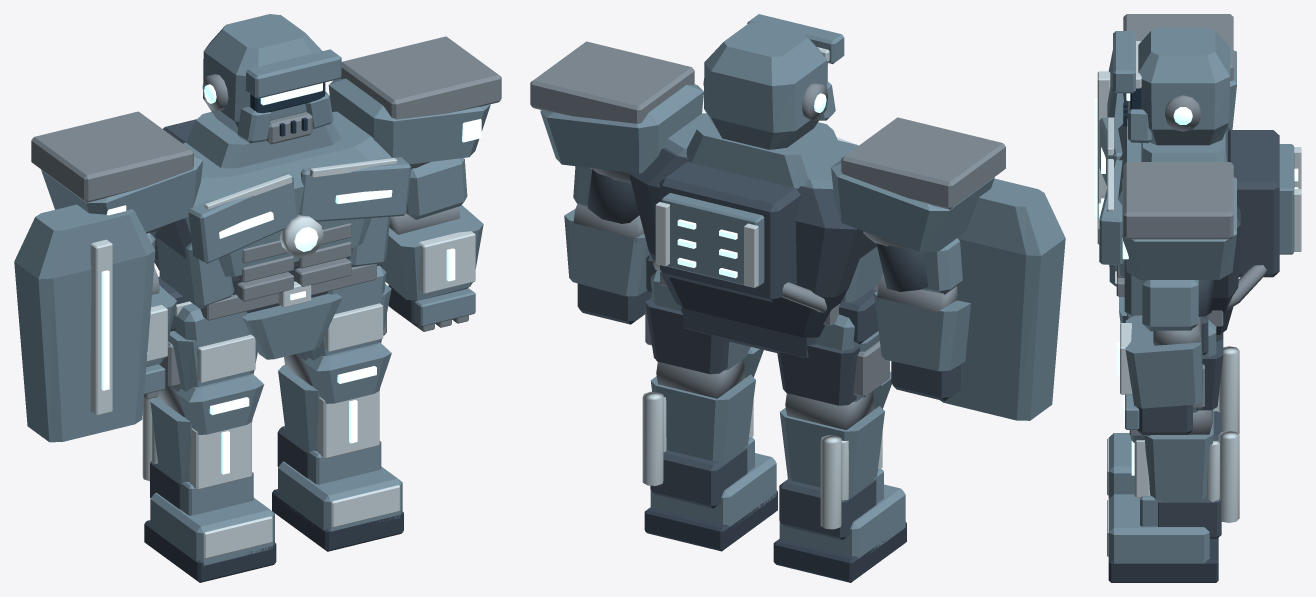
File: character_bulwark.glb
3 views of the same model, side by side, from view 1: azimuth 30°, elevation 25°; view 2: azimuth 150°, elevation 25°; view 3: azimuth 270°, elevation 25° (orthographic). The views are drawn at different scales.
Parts seen in each view (by area): view 1: forearm_tower_shield_120, shoulder_siege_slab_123, shoulder_siege_slab_125, thorax_carapace_2, helmet_94, shoulder_pauldron_78, pectoral_plate_13, pectoral_plate_3, shoulder_pauldron_63, boot_toe_31, codpiece_24, boot_toe_47 (+48 smaller); view 2: forearm_tower_shield_120, torso_1, helmet_94, shoulder_siege_slab_123, shoulder_siege_slab_125, reactor_pack_108, shoulder_pauldron_78, shoulder_pauldron_63, shin_armor_51, neck_guard_collar_93, reactor_armored_cover_109, forearm_bracer_69 (+31 smaller); view 3: helmet_94, shoulder_siege_slab_125, reactor_pack_108, forearm_bracer_84, boot_toe_47, shoulder_pauldron_78, shin_armor_51, upper_arm_plate_82, boot_sole_46, shoulder_siege_slab_123, boot_ankle_49, shin_hydraulic_rod_126 (+33 smaller).
Part boxes in pixels (x1=…): forearm_tower_shield_120: x1=14, y1=204, x2=155, y2=442; shoulder_siege_slab_123: x1=31, y1=111, x2=193, y2=202; shoulder_siege_slab_125: x1=340, y1=36, x2=501, y2=119; thorax_carapace_2: x1=183, y1=111, x2=391, y2=276; helmet_94: x1=203, y1=14, x2=322, y2=133; shoulder_pauldron_78: x1=328, y1=78, x2=490, y2=164; pectoral_plate_13: x1=299, y1=157, x2=411, y2=221; pectoral_plate_3: x1=188, y1=173, x2=297, y2=263; shoulder_pauldron_63: x1=41, y1=153, x2=203, y2=232; boot_toe_31: x1=150, y1=492, x2=274, y2=565; codpiece_24: x1=242, y1=293, x2=342, y2=359; boot_toe_47: x1=278, y1=461, x2=402, y2=532; forearm_tower_shield_120: x1=940, y1=178, x2=1065, y2=420; torso_1: x1=629, y1=147, x2=876, y2=337; helmet_94: x1=704, y1=22, x2=827, y2=149; shoulder_siege_slab_123: x1=841, y1=117, x2=1005, y2=209; shoulder_siege_slab_125: x1=530, y1=41, x2=694, y2=123; reactor_pack_108: x1=660, y1=162, x2=800, y2=302; shoulder_pauldron_78: x1=540, y1=84, x2=703, y2=173; shoulder_pauldron_63: x1=831, y1=160, x2=994, y2=251; shin_armor_51: x1=650, y1=374, x2=755, y2=463; neck_guard_collar_93: x1=686, y1=119, x2=843, y2=188; reactor_armored_cover_109: x1=662, y1=193, x2=764, y2=288; forearm_bracer_69: x1=874, y1=291, x2=970, y2=371; helmet_94: x1=1138, y1=27, x2=1230, y2=145; shoulder_siege_slab_125: x1=1123, y1=162, x2=1233, y2=239; reactor_pack_108: x1=1228, y1=130, x2=1279, y2=277; forearm_bracer_84: x1=1125, y1=315, x2=1202, y2=408; boot_toe_47: x1=1108, y1=494, x2=1209, y2=563; shoulder_pauldron_78: x1=1122, y1=177, x2=1236, y2=279; shin_armor_51: x1=1144, y1=409, x2=1213, y2=501; upper_arm_plate_82: x1=1142, y1=280, x2=1198, y2=331; boot_sole_46: x1=1108, y1=538, x2=1218, y2=582; shoulder_siege_slab_123: x1=1123, y1=14, x2=1233, y2=81; boot_ankle_49: x1=1158, y1=496, x2=1221, y2=538; shin_hydraulic_rod_126: x1=1218, y1=431, x2=1239, y2=522.
Size of the model in its own units: 2.33 by 2.37 by 0.902.
